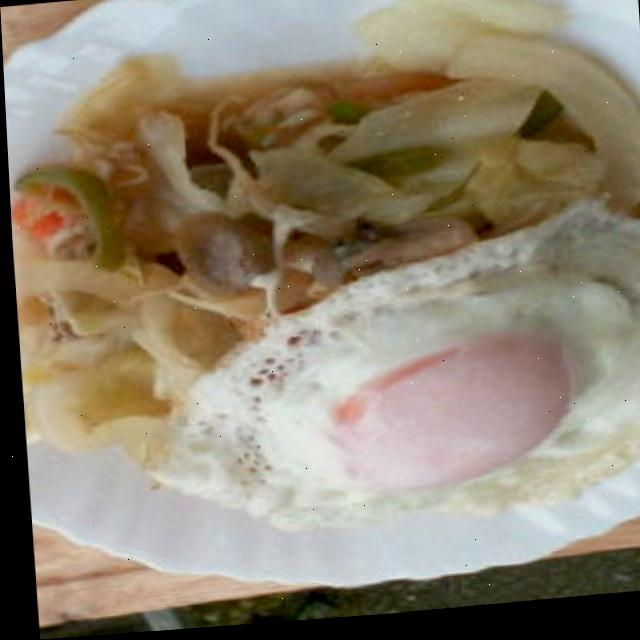蔬菜料理: (0, 0, 640, 482)
鸡蛋料理: (119, 202, 640, 559)
